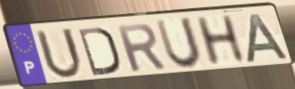A: (244, 12, 292, 65)
D: (75, 25, 122, 78)
H: (192, 13, 249, 69)
R: (113, 22, 168, 74)
U: (153, 15, 205, 72), (33, 26, 85, 82)
